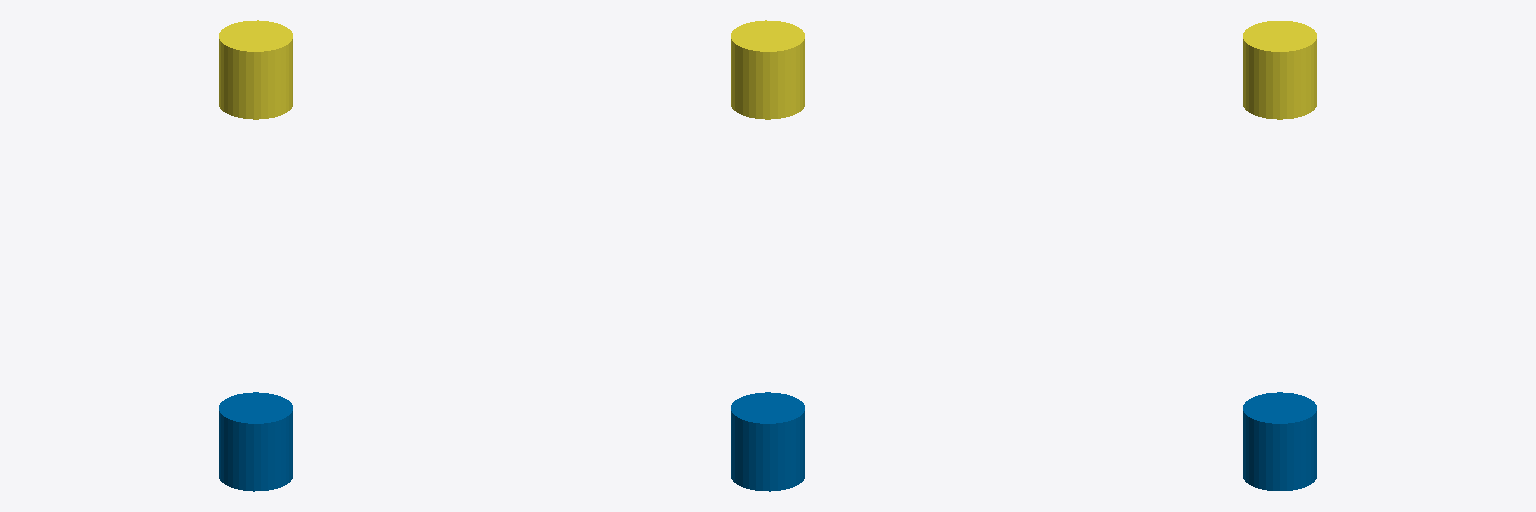
URDF robot description (echo_bot):
<?xml version="1.0" encoding="utf-8"?>
<!-- =================================================================================== -->
<!-- |    This document was autogenerated by xacro from echo_bot.urdf.xacro            | -->
<!-- |    EDITING THIS FILE BY HAND IS NOT RECOMMENDED                                 | -->
<!-- =================================================================================== -->
<robot name="echo_bot">
  <!-- == echo_bot base == -->
  <link name="base_link"/>
  <link name="torso_link">
    <visual>
      <origin rpy="0 0 0" xyz="0 0 0"/>
      <geometry>
        <mesh filename="package://echo_bot_description/meshes/DAE/torso.dae"/>
      </geometry>
    </visual>
    <collision>
      <origin rpy="0 0 0" xyz="0 0 0"/>
      <geometry>
        <mesh filename="package://echo_bot_description/meshes/STL/torso.stl"/>
      </geometry>
    </collision>
    <inertial>
      <inertia ixx="0.006594" ixy="0.0" ixz="0.000999" iyy="0.007405" iyz="0.0" izz="0.010608"/>
      <mass value="2.915"/>
      <origin rpy="0 0 0" xyz="0.025 0 0.053"/>
    </inertial>
  </link>
  <link name="torso_back_left"/>
  <!-- <link name="torso_back_right"/> -->
  <joint name="torso_link_to_torso_back_left" type="fixed">
    <origin xyz="-0.04 0.0475 0.035"/>
    <parent link="torso_link"/>
    <child link="torso_back_left"/>
  </joint>
  <!-- <joint name="torso_link_to_torso_back_right" type="fixed">
      <origin xyz="-0.04 -0.0475 0.035"/>
      <parent link="torso_link"/>
      <child link="torso_back_right"/>
    </joint> -->
  <joint name="base_link_to_torso_link" type="fixed">
    <origin rpy="0 0 0" xyz="0 0 0"/>
    <parent link="base_link"/>
    <child link="torso_link"/>
  </joint>
  <!-- <link name="base_footprint"/>
  <joint name="base_link_to_base_footprint_joint" type="fixed">
    <origin xyz="0 0 0.090"/>
    <parent link="base_link"/>
    <child link="base_footprint"/>
  </joint> -->
  <!-- Link -->
  <link name="upper_lleg_link">
    <visual>
      <origin rpy="0 0 0" xyz="0 0 0"/>
      <geometry>
        <mesh filename="package://echo_bot_description/meshes/DAE/upper_leg.dae"/>
      </geometry>
    </visual>
    <collision>
      <origin rpy="0 0 0" xyz="0 0 0"/>
      <geometry>
        <mesh filename="package://echo_bot_description/meshes/STL/upper_leg.stl"/>
      </geometry>
    </collision>
    <inertial>
      <inertia ixx="0.000311" ixy="0.0" ixz="0.000001" iyy="0.000394" iyz="0.0" izz="0.000622"/>
      <mass value="0.5"/>
      <origin rpy="0 0 0" xyz="0.045 0 -0.001"/>
    </inertial>
  </link>
  <link name="lower_lleg_link">
    <visual>
      <origin rpy="0 0 0" xyz="0 0 0"/>
      <geometry>
        <mesh filename="package://echo_bot_description/meshes/DAE/lower_lleg.dae"/>
      </geometry>
    </visual>
    <collision>
      <origin rpy="0 0 0" xyz="0 0 0"/>
      <geometry>
        <mesh filename="package://echo_bot_description/meshes/STL/lower_lleg.stl"/>
      </geometry>
    </collision>
    <inertial>
      <inertia ixx="0.000151" ixy="-0.000041" ixz="-0.000004" iyy="0.000795" iyz="0.0" izz="0.000777"/>
      <mass value="0.5"/>
      <origin rpy="0 0 0" xyz="0.058 0.001 -0.001"/>
    </inertial>
  </link>
  <link name="upper_side_lleg_link">
    <visual>
      <origin rpy="0 0 0" xyz="0 0 0"/>
      <material name="leg_color_0"/>
      <geometry>
        <mesh filename="package://echo_bot_description/meshes/DAE/upper_side_leg.dae"/>
      </geometry>
    </visual>
    <collision>
      <origin rpy="0 0 0" xyz="0 0 0"/>
      <geometry>
        <mesh filename="package://echo_bot_description/meshes/STL/upper_side_leg.stl"/>
      </geometry>
    </collision>
    <inertial>
      <inertia ixx="0.000018" ixy="0.0" ixz="0.0" iyy="0.000316" iyz="0.0" izz="0.000314"/>
      <mass value="0.5"/>
      <origin rpy="0 0 0" xyz="0.05 0 0"/>
    </inertial>
  </link>
  <!-- Joint -->
  <joint name="torso_to_upper_lleg" type="revolute">
    <origin rpy="0.0 2.27 0.0" xyz="0.0 0.0475 0.0"/>
    <parent link="torso_link"/>
    <child link="upper_lleg_link"/>
    <axis xyz="0 1 0"/>
    <limit effort="100" lower="0.0" upper="0.52359879" velocity="3.14159274"/>
    <dynamics damping="0.1"/>
  </joint>
  <transmission name="torso_to_upper_lleg_trans">
    <type>transmission_interface/SimpleTransmission</type>
    <joint name="torso_to_upper_lleg">
      <hardwareInterface>hardware_interface/EffortJointInterface</hardwareInterface>
    </joint>
    <actuator name="torso_to_upper_lleg_motor">
      <hardwareInterface>hardware_interface/EffortJointInterface</hardwareInterface>
      <mechanicalReduction>1</mechanicalReduction>
    </actuator>
  </transmission>
  <joint name="upper_lleg_to_lower_lleg" type="continuous">
    <origin rpy="0.0 -1.36 0.0" xyz="0.1 0.0 0.0"/>
    <parent link="upper_lleg_link"/>
    <child link="lower_lleg_link"/>
    <axis xyz="0 1 0"/>
    <!-- <mimic joint="upper_${prefix}leg_link_joint" multiplier="-2.186" offset="-0.02025"/> -->
  </joint>
  <joint name="lower_lleg_to_upper_side_lleg" type="continuous">
    <origin rpy="0.0 -2.08 0.0" xyz="-0.025 0.0 0.0"/>
    <parent link="lower_lleg_link"/>
    <child link="upper_side_lleg_link"/>
    <axis xyz="0 1 0"/>
    <!-- <mimic joint="upper_${prefix}leg_link_joint" multiplier="2.123937" offset="0.003625"/> -->
  </joint>
  <!-- Link -->
  <link name="upper_rleg_link">
    <visual>
      <origin rpy="0 0 0" xyz="0 0 0"/>
      <geometry>
        <mesh filename="package://echo_bot_description/meshes/DAE/upper_leg.dae"/>
      </geometry>
    </visual>
    <collision>
      <origin rpy="0 0 0" xyz="0 0 0"/>
      <geometry>
        <mesh filename="package://echo_bot_description/meshes/STL/upper_leg.stl"/>
      </geometry>
    </collision>
    <inertial>
      <inertia ixx="0.000311" ixy="0.0" ixz="0.000001" iyy="0.000394" iyz="0.0" izz="0.000622"/>
      <mass value="0.5"/>
      <origin rpy="0 0 0" xyz="0.045 0 -0.001"/>
    </inertial>
  </link>
  <link name="lower_rleg_link">
    <visual>
      <origin rpy="0 0 0" xyz="0 0 0"/>
      <geometry>
        <mesh filename="package://echo_bot_description/meshes/DAE/lower_rleg.dae"/>
      </geometry>
    </visual>
    <collision>
      <origin rpy="0 0 0" xyz="0 0 0"/>
      <geometry>
        <mesh filename="package://echo_bot_description/meshes/STL/lower_rleg.stl"/>
      </geometry>
    </collision>
    <inertial>
      <inertia ixx="0.000151" ixy="-0.000041" ixz="-0.000004" iyy="0.000795" iyz="0.0" izz="0.000777"/>
      <mass value="0.5"/>
      <origin rpy="0 0 0" xyz="0.058 0.001 -0.001"/>
    </inertial>
  </link>
  <link name="upper_side_rleg_link">
    <visual>
      <origin rpy="0 0 0" xyz="0 0 0"/>
      <material name="leg_color_0"/>
      <geometry>
        <mesh filename="package://echo_bot_description/meshes/DAE/upper_side_leg.dae"/>
      </geometry>
    </visual>
    <collision>
      <origin rpy="0 0 0" xyz="0 0 0"/>
      <geometry>
        <mesh filename="package://echo_bot_description/meshes/STL/upper_side_leg.stl"/>
      </geometry>
    </collision>
    <inertial>
      <inertia ixx="0.000018" ixy="0.0" ixz="0.0" iyy="0.000316" iyz="0.0" izz="0.000314"/>
      <mass value="0.5"/>
      <origin rpy="0 0 0" xyz="0.05 0 0"/>
    </inertial>
  </link>
  <!-- Joint -->
  <joint name="torso_to_upper_rleg" type="revolute">
    <origin rpy="0.0 2.27 0.0" xyz="0.0 -0.0475 0.0"/>
    <parent link="torso_link"/>
    <child link="upper_rleg_link"/>
    <axis xyz="0 1 0"/>
    <limit effort="100" lower="0.0" upper="0.52359879" velocity="3.14159274"/>
    <dynamics damping="0.1"/>
  </joint>
  <transmission name="torso_to_upper_rleg_trans">
    <type>transmission_interface/SimpleTransmission</type>
    <joint name="torso_to_upper_rleg">
      <hardwareInterface>hardware_interface/EffortJointInterface</hardwareInterface>
    </joint>
    <actuator name="torso_to_upper_rleg_motor">
      <hardwareInterface>hardware_interface/EffortJointInterface</hardwareInterface>
      <mechanicalReduction>1</mechanicalReduction>
    </actuator>
  </transmission>
  <joint name="upper_rleg_to_lower_rleg" type="continuous">
    <origin rpy="0.0 -1.36 0.0" xyz="0.1 0.0 0.0"/>
    <parent link="upper_rleg_link"/>
    <child link="lower_rleg_link"/>
    <axis xyz="0 1 0"/>
    <!-- <mimic joint="upper_${prefix}leg_link_joint" multiplier="-2.186" offset="-0.02025"/> -->
  </joint>
  <joint name="lower_rleg_to_upper_side_rleg" type="continuous">
    <origin rpy="0.0 -2.08 0.0" xyz="-0.025 0.0 0.0"/>
    <parent link="lower_rleg_link"/>
    <child link="upper_side_rleg_link"/>
    <axis xyz="0 1 0"/>
    <!-- <mimic joint="upper_${prefix}leg_link_joint" multiplier="2.123937" offset="0.003625"/> -->
  </joint>
  <link name="wheel_l">
    <visual>
      <geometry>
        <mesh filename="package://echo_bot_description/meshes/DAE/tyre.dae"/>
      </geometry>
    </visual>
    <collision>
      <!-- <origin xyz="0 -0.003 0" rpy="${-M_PI/2} 0 0"/> -->
      <origin rpy="0 0 0" xyz="0 0 0"/>
      <geometry>
        <!-- <cylinder radius="${wheel_radius}" length="${wheel_length}"/> -->
        <mesh filename="package://echo_bot_description/meshes/STL/tyre.stl"/>
      </geometry>
    </collision>
    <inertial>
      <origin rpy="0 0 0" xyz="0.0 0.0 0.0"/>
      <mass value="0.039831"/>
      <inertia ixx="8.85243975e-06" ixy="0.0" ixz="0.0" iyy="8.85243975e-06" iyz="0.0" izz="1.67489355e-05"/>
      <!-- <cylinder_inertial  mass="${wheel_mass}"
                            radius="${wheel_radius}" length="${wheel_length}"/> -->
    </inertial>
  </link>
  <joint name="lower_lleg_to_wheel_l" type="continuous">
    <origin rpy="-1.57079637 0.0 0.0" xyz="0.1 0.0305 0.0"/>
    <parent link="lower_lleg_link"/>
    <child link="wheel_l"/>
    <axis xyz="0 0 1"/>
    <limit effort="0.4" velocity="12.0"/>
  </joint>
  <transmission name="lower_lleg_to_wheel_l_trans">
    <type>transmission_interface/SimpleTransmission</type>
    <joint name="lower_lleg_to_wheel_l">
      <hardwareInterface>hardware_interface/VelocityJointInterface</hardwareInterface>
    </joint>
    <actuator name="lower_lleg_to_wheel_l_motor">
      <hardwareInterface>hardware_interface/VelocityJointInterface</hardwareInterface>
      <mechanicalReduction>1</mechanicalReduction>
    </actuator>
  </transmission>
  <link name="wheel_r">
    <visual>
      <geometry>
        <mesh filename="package://echo_bot_description/meshes/DAE/tyre.dae"/>
      </geometry>
    </visual>
    <collision>
      <!-- <origin xyz="0 -0.003 0" rpy="${-M_PI/2} 0 0"/> -->
      <origin rpy="0 0 0" xyz="0 0 0"/>
      <geometry>
        <!-- <cylinder radius="${wheel_radius}" length="${wheel_length}"/> -->
        <mesh filename="package://echo_bot_description/meshes/STL/tyre.stl"/>
      </geometry>
    </collision>
    <inertial>
      <origin rpy="0 0 0" xyz="0.0 0.0 0.0"/>
      <mass value="0.039831"/>
      <inertia ixx="8.85243975e-06" ixy="0.0" ixz="0.0" iyy="8.85243975e-06" iyz="0.0" izz="1.67489355e-05"/>
      <!-- <cylinder_inertial  mass="${wheel_mass}"
                            radius="${wheel_radius}" length="${wheel_length}"/> -->
    </inertial>
  </link>
  <joint name="lower_rleg_to_wheel_r" type="continuous">
    <origin rpy="-1.57079637 0.0 0.0" xyz="0.1 -0.0305 0.0"/>
    <parent link="lower_rleg_link"/>
    <child link="wheel_r"/>
    <axis xyz="0 0 1"/>
    <limit effort="0.4" velocity="12.0"/>
  </joint>
  <transmission name="lower_rleg_to_wheel_r_trans">
    <type>transmission_interface/SimpleTransmission</type>
    <joint name="lower_rleg_to_wheel_r">
      <hardwareInterface>hardware_interface/VelocityJointInterface</hardwareInterface>
    </joint>
    <actuator name="lower_rleg_to_wheel_r_motor">
      <hardwareInterface>hardware_interface/VelocityJointInterface</hardwareInterface>
      <mechanicalReduction>1</mechanicalReduction>
    </actuator>
  </transmission>
  <link name="lidar_link">
    <visual>
      <origin rpy="0 0 0" xyz="0 0 0"/>
      <geometry>
        <cylinder length="0.02" radius="0.01"/>
      </geometry>
    </visual>
    <collision>
      <origin rpy="0 0 0" xyz="0 0 0"/>
      <geometry>
        <cylinder length="0.02" radius="0.01"/>
      </geometry>
    </collision>
    <inertial>
      <inertia ixx="2.1733e-6" ixy="0.0" ixz="0.0" iyy="2.1733e-6" iyz="0.0" izz="1.8e-7"/>
      <mass value="0.01"/>
      <origin rpy="0 0 0" xyz="0 0 0"/>
    </inertial>
  </link>
  <joint name="lidar_joint" type="fixed">
    <origin rpy="0 0 0" xyz="0 0 0.11"/>
    <parent link="torso_link"/>
    <child link="lidar_link"/>
  </joint>
  <link name="imu_link">
    <visual>
      <origin rpy="0 0 0" xyz="0 0 0"/>
      <geometry>
        <cylinder length="0.02" radius="0.01"/>
      </geometry>
    </visual>
    <collision>
      <origin rpy="0 0 0" xyz="0 0 0"/>
      <geometry>
        <cylinder length="0.02" radius="0.01"/>
      </geometry>
    </collision>
    <inertial>
      <inertia ixx="2.1733e-6" ixy="0.0" ixz="0.0" iyy="2.1733e-6" iyz="0.0" izz="1.8e-7"/>
      <mass value="0.01"/>
      <origin rpy="0 0 0" xyz="0 0 0"/>
    </inertial>
  </link>
  <joint name="imu_joint" type="fixed">
    <origin rpy="0 0 0" xyz="0 0 0"/>
    <parent link="torso_link"/>
    <child link="imu_link"/>
  </joint>
</robot>

--- Render facts (derived) ---
Views: 3 orthographic renders of the robot side by side, from view 1: azimuth 30°, elevation 25°; view 2: azimuth 150°, elevation 25°; view 3: azimuth 270°, elevation 25°.
Robot: echo_bot — 13 links, 12 joints (2 revolute, 6 continuous, 4 fixed); root link base_link; default pose: every joint at zero.
Links seen in each view (by area): view 1: lidar_link, imu_link; view 2: lidar_link, imu_link; view 3: lidar_link, imu_link.
Link boxes in pixels (box(x1,y1,x2,y2)): lidar_link: box(219, 20, 292, 119); imu_link: box(219, 392, 292, 491); lidar_link: box(731, 20, 804, 119); imu_link: box(731, 392, 804, 491); lidar_link: box(1243, 21, 1316, 119); imu_link: box(1243, 392, 1316, 490).
Size in the robot's own frame: 0.02 by 0.02 by 0.13 metres.
0 mesh visuals loaded from 6 distinct referenced files (none loaded); not drawn: 9 (reference not matched to a file when rendering).